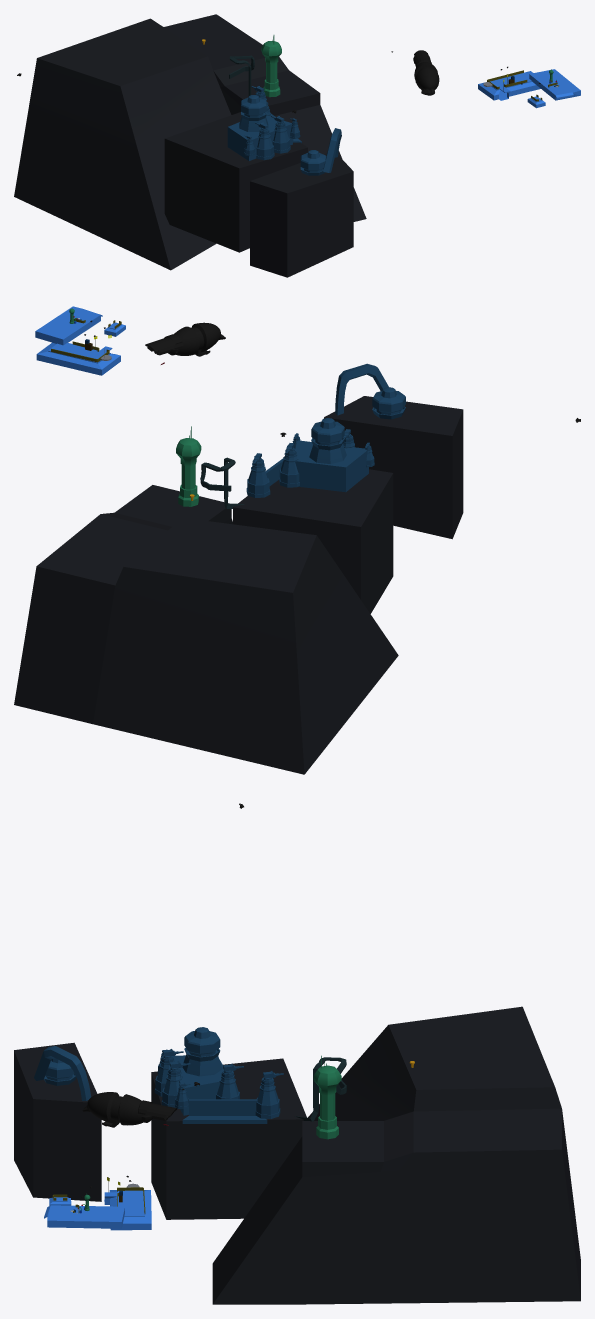
The model's file is whole setting and interface.obj.
The picture shows the model from 3 angles, top to bottom: view 1: azimuth 30°, elevation 25°; view 2: azimuth 150°, elevation 25°; view 3: azimuth 270°, elevation 25°; orthographic projection. The views are drawn at different scales.
Visible parts, largest first — view 1: rock_platform_magnet, Rock_platform_main, rock_platform_corner, Citadel Citadel pCube1, Lower_Platform1, main_platform, mothership, Citadel Citadel pCylinder8, group5 Tower_far pCylinder4, Citadel Citadel pCylinder17, Citadel Citadel turret4, Citadel Citadel turret3 (+2 smaller); view 2: rock_platform_magnet, rock_platform_corner, Rock_platform_main, Citadel Citadel pCube1, mothership, Lower_Platform1, Citadel Citadel pCylinder8, main_platform, group5 Tower_far pCylinder4, arch, Citadel Citadel pCylinder17, magnet_path (+2 smaller); view 3: rock_platform_magnet, Rock_platform_main, rock_platform_corner, mothership, wall, main_platform, Citadel Citadel pCylinder8, group5 Tower_far pCylinder4, Lower_Platform1, arch, Citadel Citadel pCube1, Citadel Citadel turret6 (+2 smaller).
Part boxes in pixels (box(x1,y1,x2,y2)): rock_platform_magnet: box(14, 14, 366, 270); Rock_platform_main: box(164, 112, 307, 252); rock_platform_corner: box(250, 153, 353, 277); Citadel Citadel pCube1: box(227, 116, 292, 160); Lower_Platform1: box(478, 71, 540, 100); main_platform: box(529, 69, 580, 100); mothership: box(413, 50, 439, 95); Citadel Citadel pCylinder8: box(239, 95, 268, 131); group5 Tower_far pCylinder4: box(261, 41, 281, 97); Citadel Citadel pCylinder17: box(300, 150, 326, 175); Citadel Citadel turret4: box(256, 128, 274, 160); Citadel Citadel turret3: box(272, 121, 290, 153); rock_platform_magnet: box(14, 485, 398, 774); rock_platform_corner: box(324, 396, 463, 539); Rock_platform_main: box(233, 469, 393, 613); Citadel Citadel pCube1: box(295, 440, 368, 492); mothership: box(145, 322, 225, 356); Lower_Platform1: box(36, 342, 120, 375); Citadel Citadel pCylinder8: box(309, 418, 346, 463); main_platform: box(35, 306, 102, 345); group5 Tower_far pCylinder4: box(176, 438, 201, 506); arch: box(335, 363, 388, 415); Citadel Citadel pCylinder17: box(372, 387, 405, 419); magnet_path: box(200, 457, 244, 508); rock_platform_magnet: box(212, 1006, 580, 1304); Rock_platform_main: box(151, 1058, 306, 1219); rock_platform_corner: box(14, 1042, 101, 1201); mothership: box(82, 1092, 177, 1127); wall: box(182, 1099, 267, 1123); main_platform: box(44, 1205, 124, 1228); Citadel Citadel pCylinder8: box(182, 1027, 222, 1076); group5 Tower_far pCylinder4: box(313, 1065, 341, 1139); Lower_Platform1: box(104, 1190, 151, 1230); arch: box(34, 1046, 91, 1100); Citadel Citadel pCube1: box(173, 1055, 223, 1115); Citadel Citadel turret6: box(255, 1077, 280, 1118).
Bounding box in the file's own units: 608 × 276 × 466.
